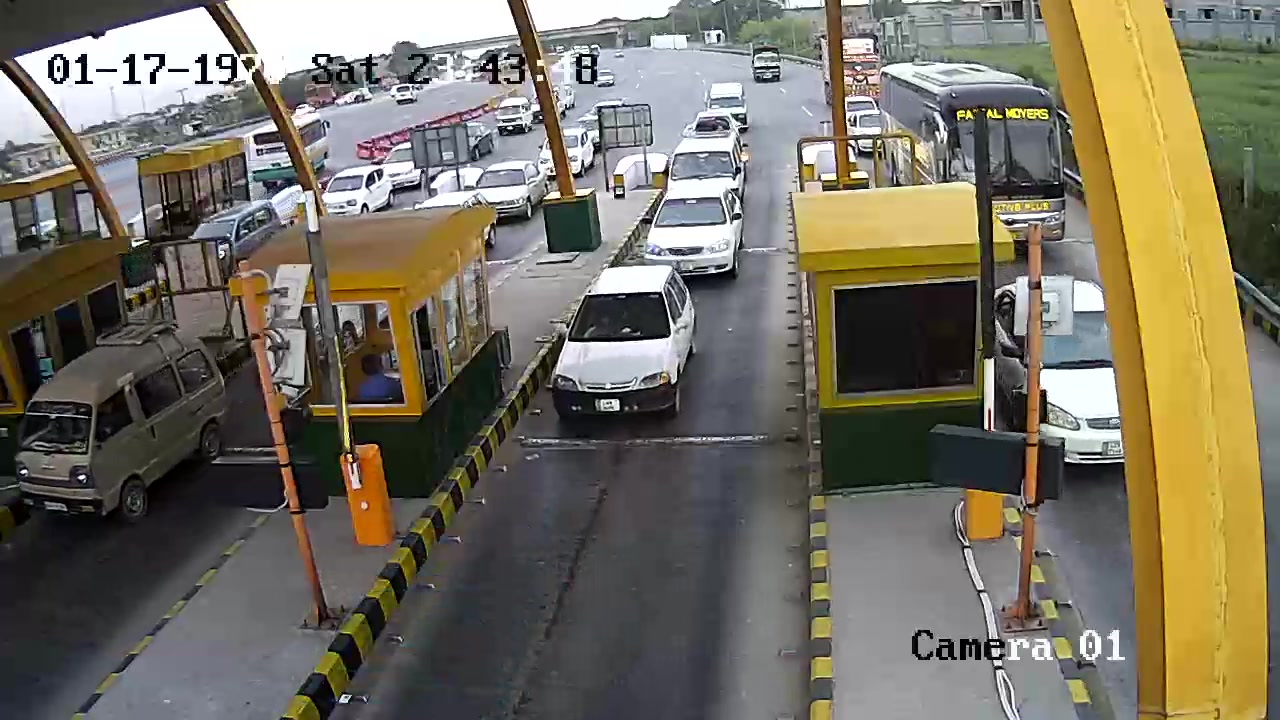F1: (538, 259, 707, 449)
